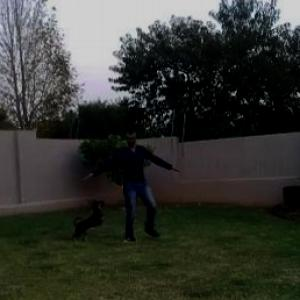land: (76, 128, 160, 229)
